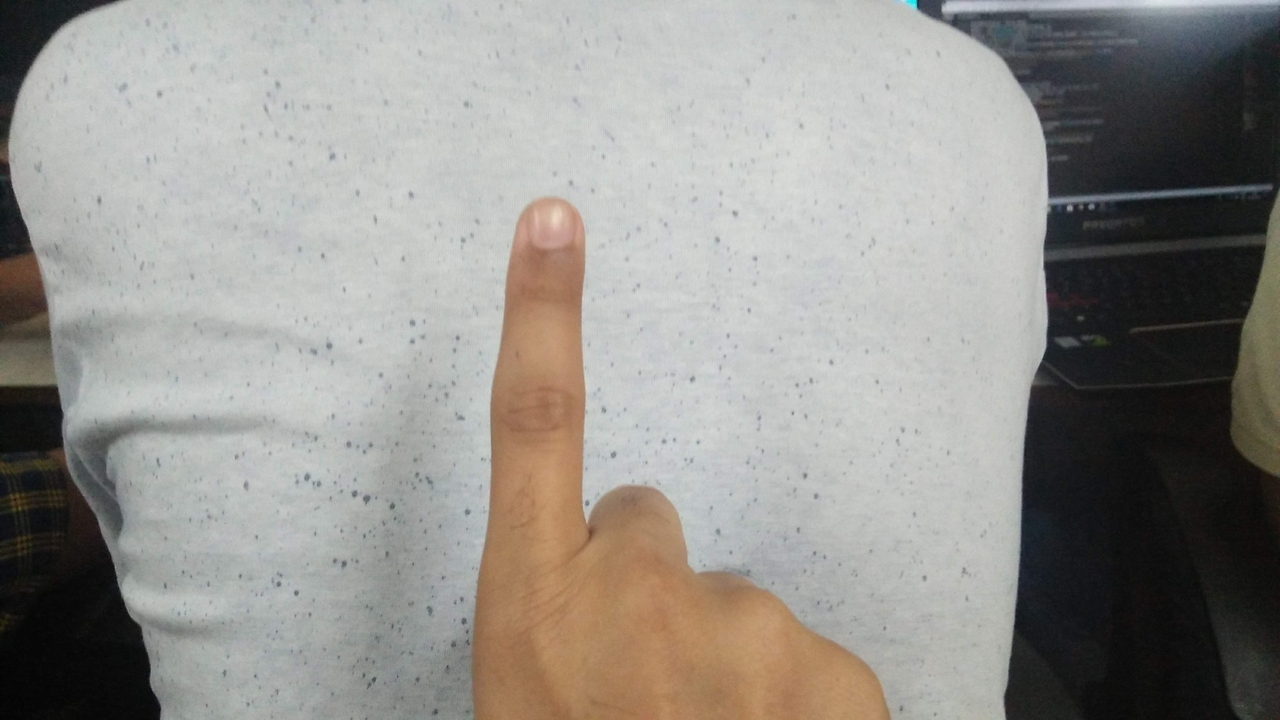fingertip: (506, 194, 588, 260)
